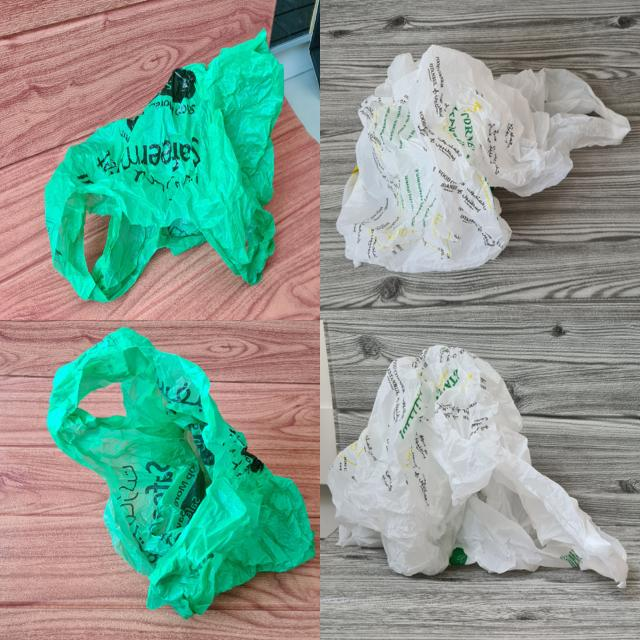Single-layer Plastic: (48, 328, 315, 619), (328, 346, 628, 586), (336, 45, 630, 272), (45, 31, 284, 302)
